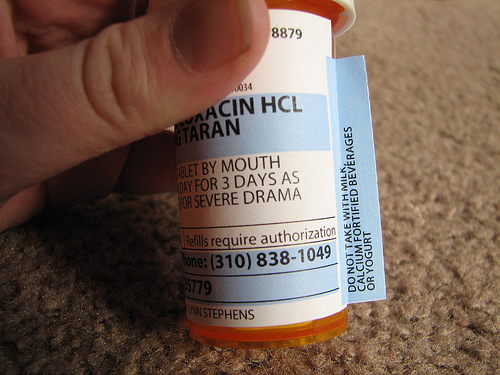pill bottle: (176, 1, 354, 349)
